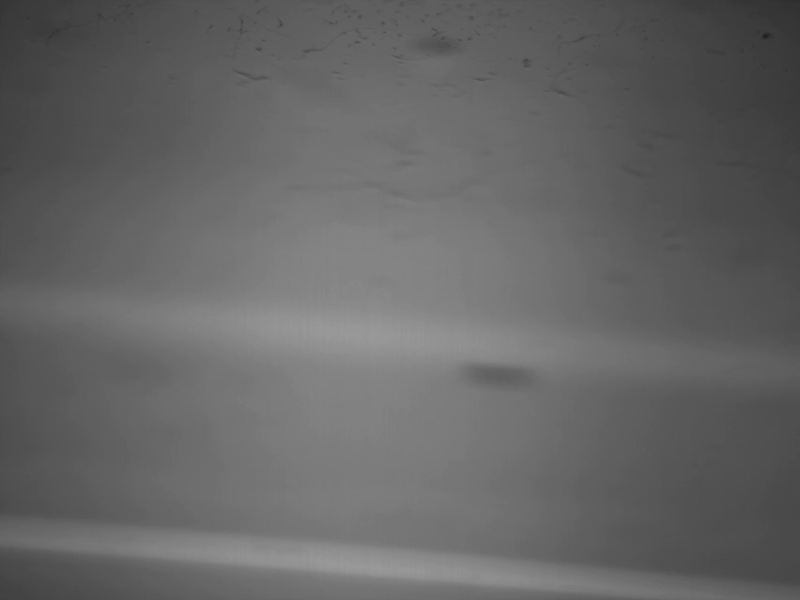bead: (459, 357, 541, 394), (410, 35, 464, 70)
fiber: (283, 172, 486, 214), (40, 1, 146, 51), (554, 3, 630, 57), (224, 15, 274, 88), (296, 19, 371, 63), (547, 51, 584, 102)
